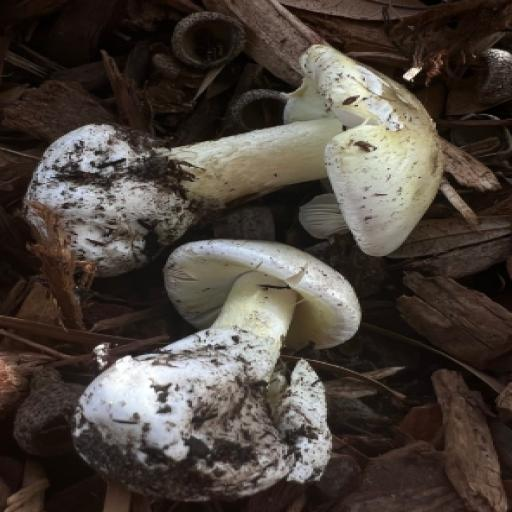mushroom: (30, 41, 441, 277), (0, 0, 1, 1)
